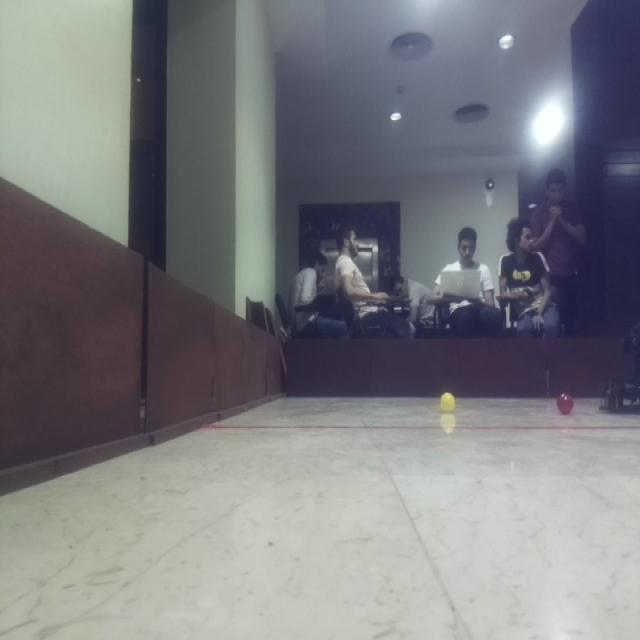ball: (436, 390, 459, 415), (555, 388, 576, 415)
